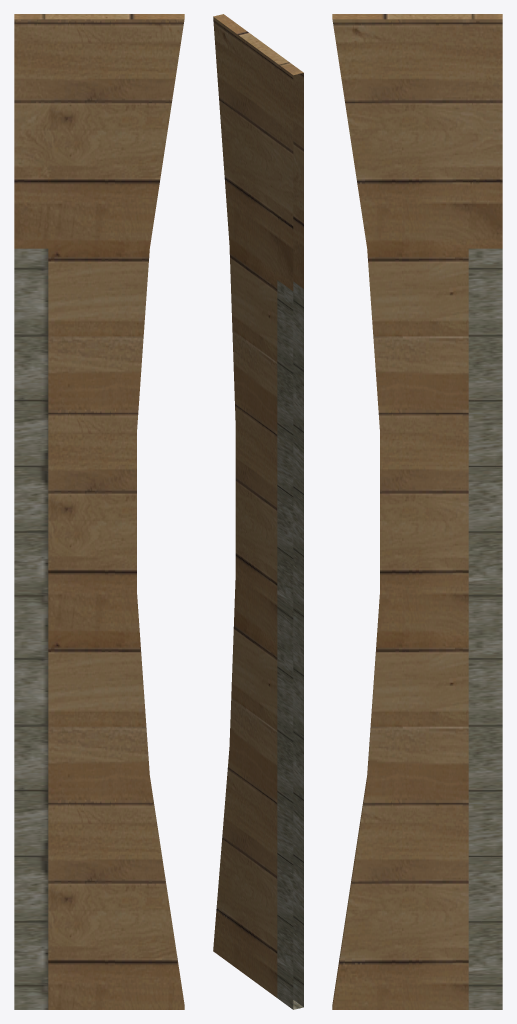
Rendered from nt_concrete_fence_320_LOD1.obj.
The picture shows the model from 3 angles, left to right: view 1: azimuth 90°, elevation 25°; view 2: azimuth 210°, elevation 25°; view 3: azimuth 270°, elevation 25°; orthographic projection. The views are drawn at different scales.
Parts seen in each view (by area): view 1: nt_wood_fence, nt_2020_concrete_pattern_02; view 2: nt_wood_fence, nt_2020_concrete_pattern_02; view 3: nt_wood_fence, nt_2020_concrete_pattern_02.
Boxes of the visible parts, bbox=[...] form: nt_wood_fence: bbox=[14, 14, 184, 1009]; nt_2020_concrete_pattern_02: bbox=[14, 248, 48, 1009]; nt_wood_fence: bbox=[213, 14, 303, 997]; nt_2020_concrete_pattern_02: bbox=[277, 280, 303, 1009]; nt_wood_fence: bbox=[332, 14, 502, 1009]; nt_2020_concrete_pattern_02: bbox=[468, 248, 502, 1009].
Bounding box in the file's own units: 9.56 × 813 × 126.
2 materials, 2 textured.
